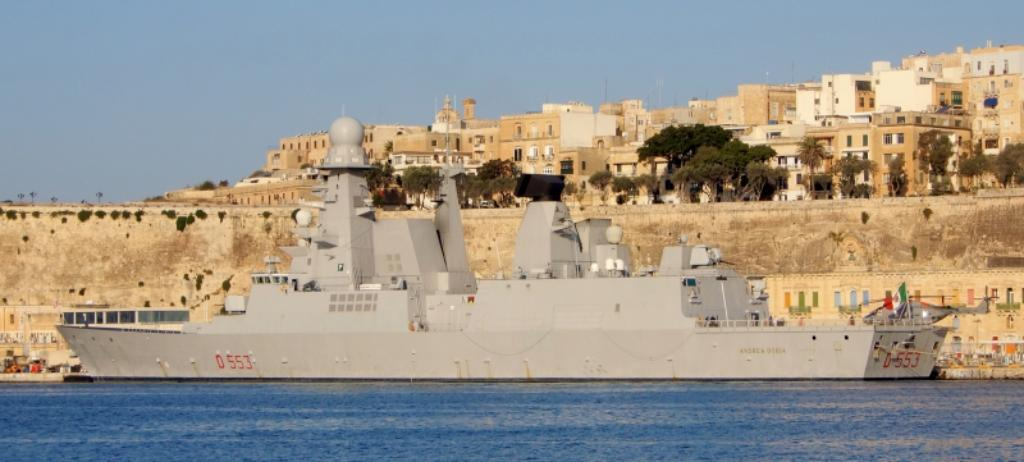Warship: (54, 113, 958, 383)
